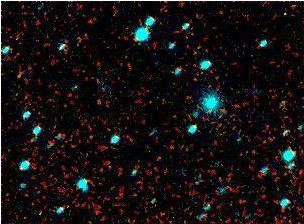star: (178, 64, 208, 94)
